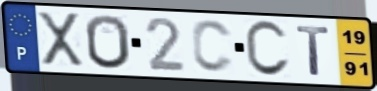2: (143, 15, 187, 72)
C: (242, 19, 292, 80), (190, 18, 236, 75)
O: (83, 13, 133, 71)
T: (294, 23, 332, 78)
X: (35, 10, 86, 68)
